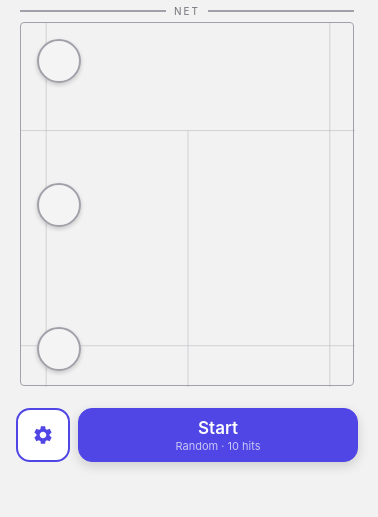
Scenario: a failed start surfaces as an inline error, not a crash
Click the text "Start" at (218, 428), box [198,418,238,438]
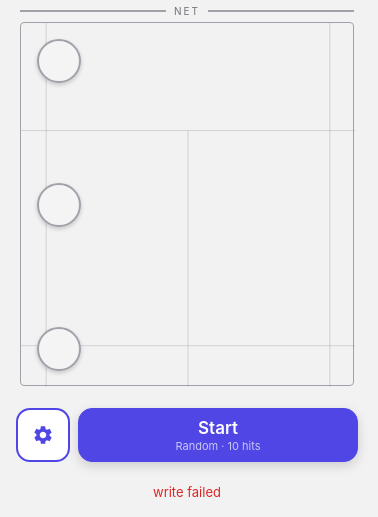
Expected: the text "write failed" is shown, [153,484,221,500]
